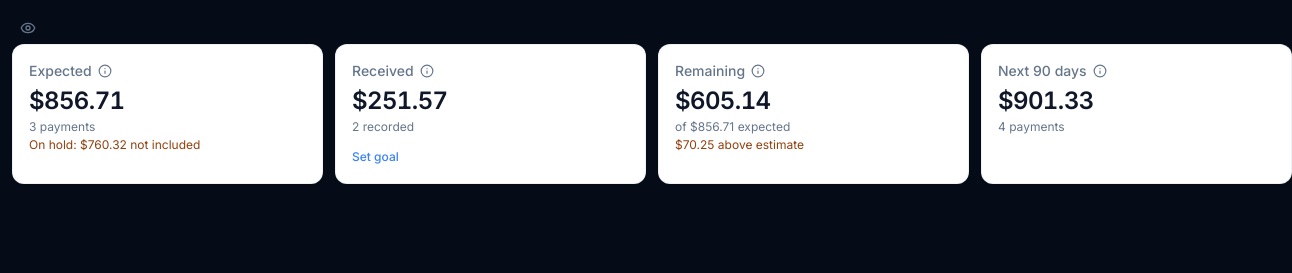
Test case: Monthly goal › set, edit and clear exactly this month, in whole cents
The width and height of the screenshot is (1292, 273).
Click the button "Set goal" at (375, 157), box left=352, top=149, right=399, bottom=165
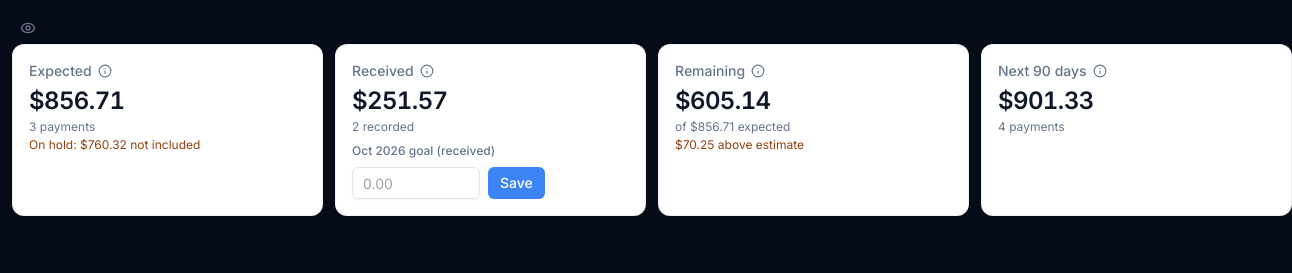
Type "0" into the field labelled "Oct 2026 goal (received)" at (416, 183), box left=352, top=167, right=480, bottom=199
Click the button "Save" at (516, 183), box left=488, top=167, right=545, bottom=199
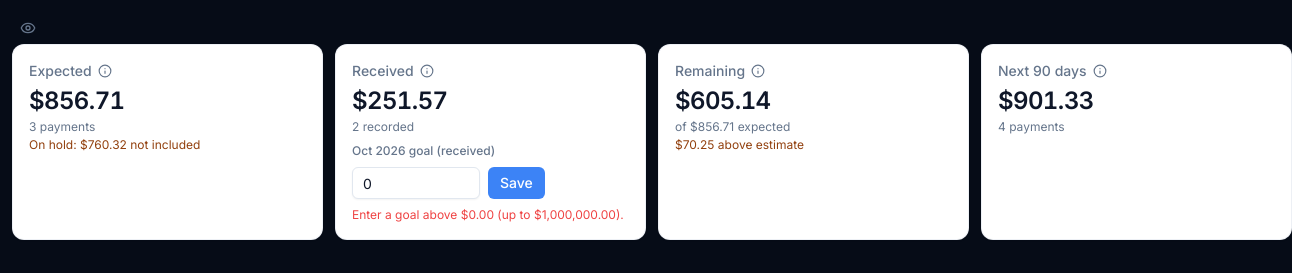
expect the message reads "Enter a goal above $0.00 (up to $1,000,000.00).": met, box left=352, top=207, right=624, bottom=222
Replace the text in the field labelled "Oct 2026 goal (received)" with "$1,250" at (416, 183), box left=352, top=167, right=480, bottom=199
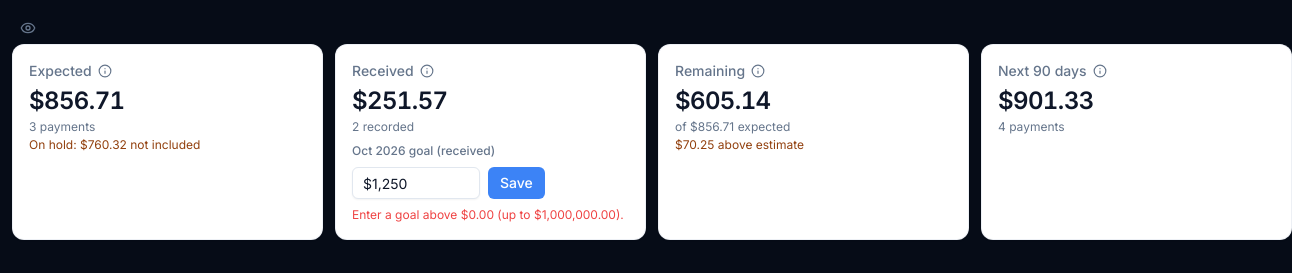
Click the button "Save" at (516, 183), box left=488, top=167, right=545, bottom=199
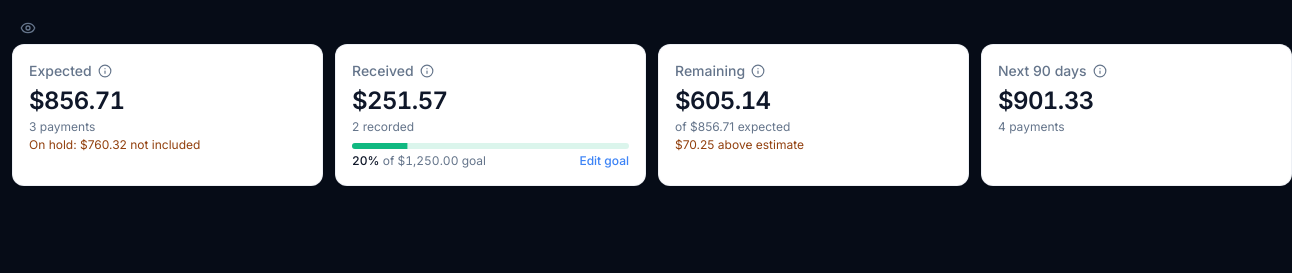
expect the text "of $1,250.00 goal" is shown: met, box left=352, top=153, right=486, bottom=169
expect the text "20%" is shown: met, box left=352, top=153, right=380, bottom=168
Click the button "Edit goal" at (604, 161), box left=579, top=153, right=629, bottom=169
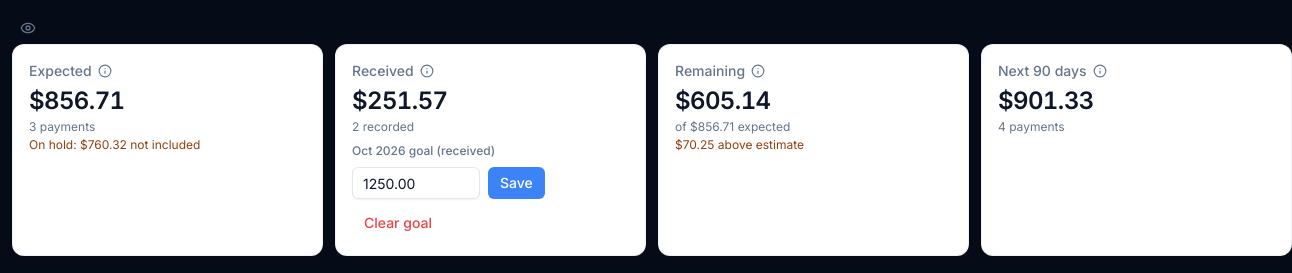
expect the field labelled "Oct 2026 goal (received)" holds "1250.00": met, box left=352, top=167, right=480, bottom=199
Click the button "Clear goal" at (398, 223), box left=352, top=207, right=444, bottom=239
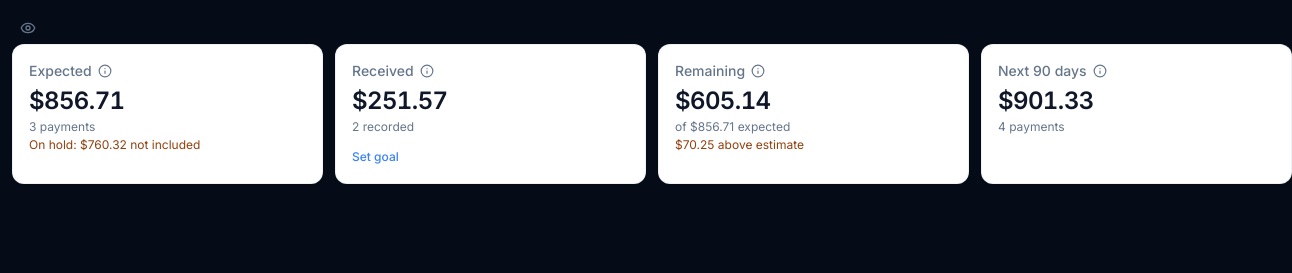
expect the button "Set goal" is shown: met, box left=352, top=149, right=399, bottom=165
